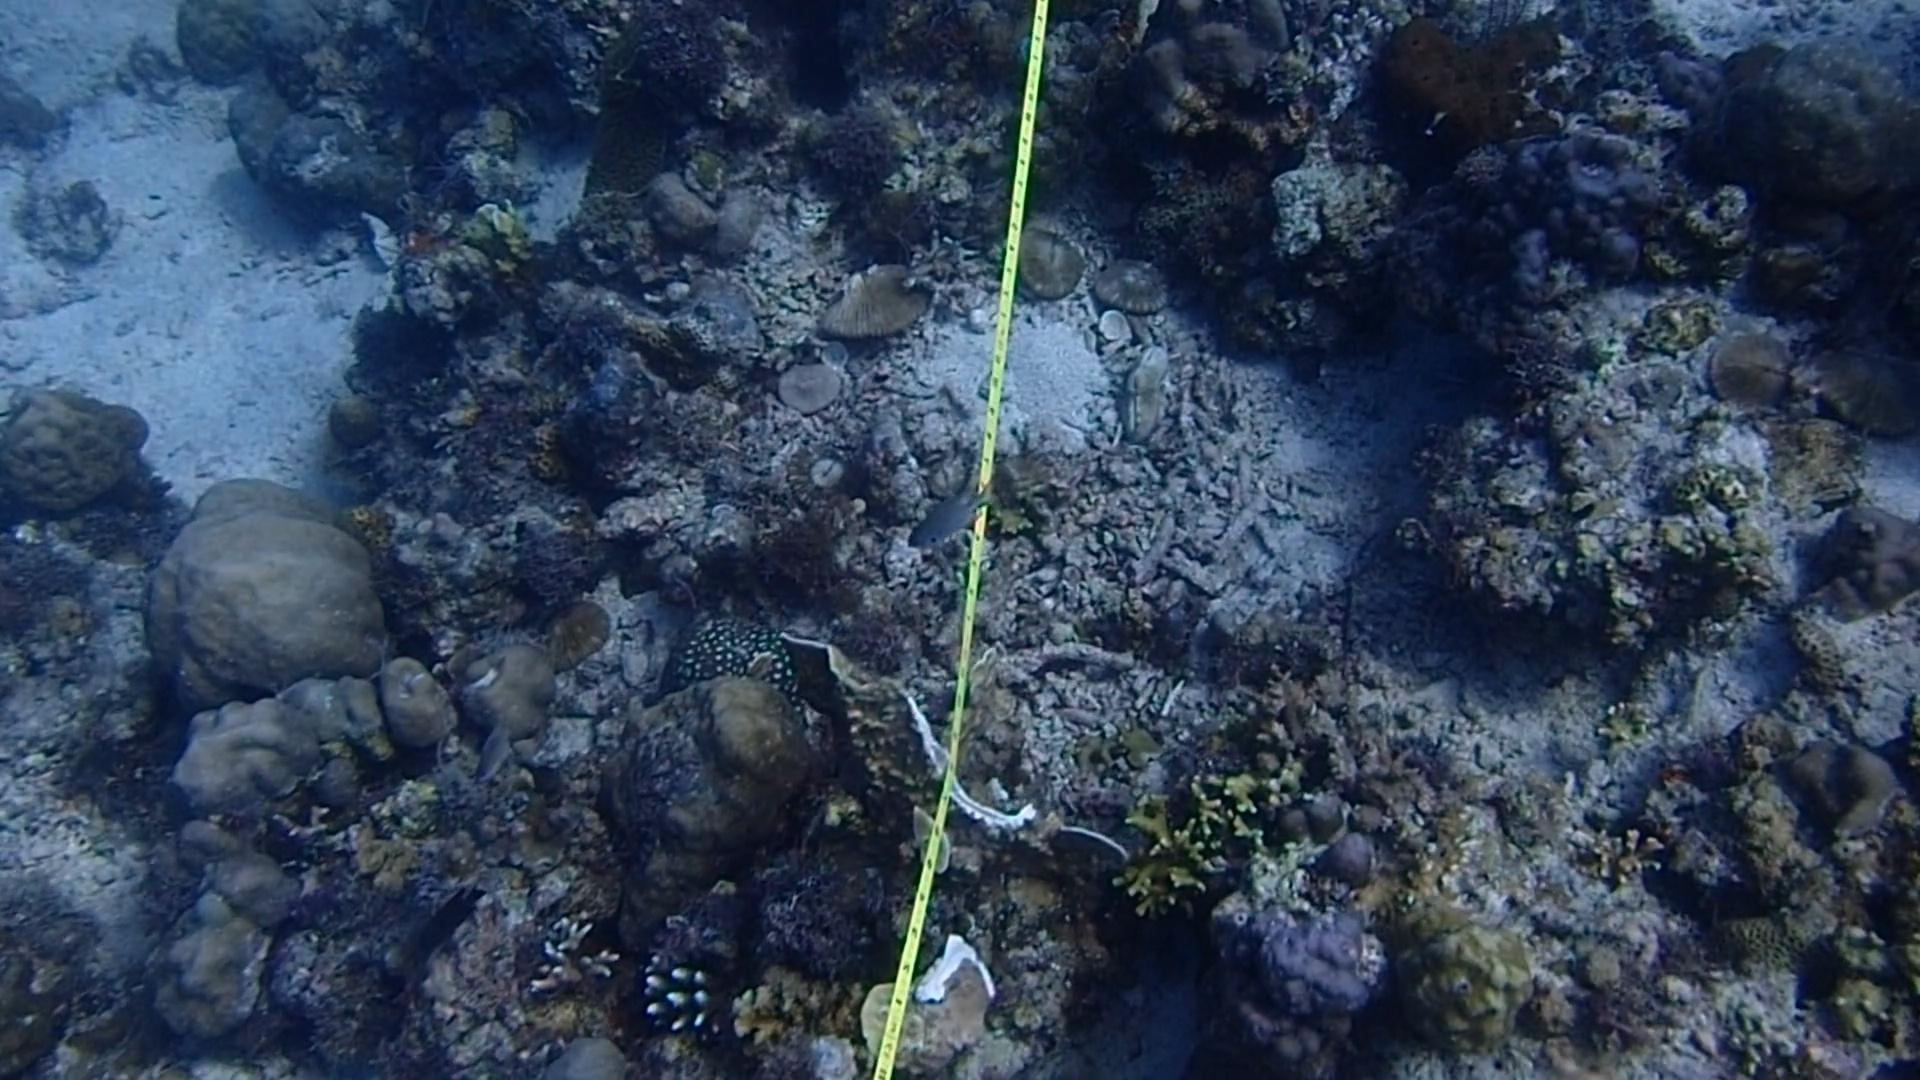Light Fish: (906, 473, 1005, 556)
